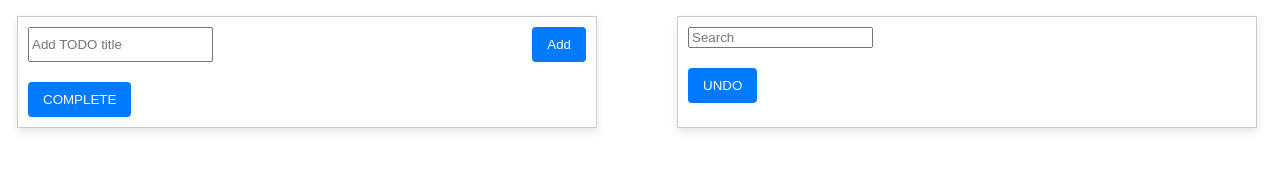
Test case: adding a new task
Step 1. Type "new task" into the field with placeholder "Add TODO title" → (120, 44), box left=28, top=27, right=213, bottom=62
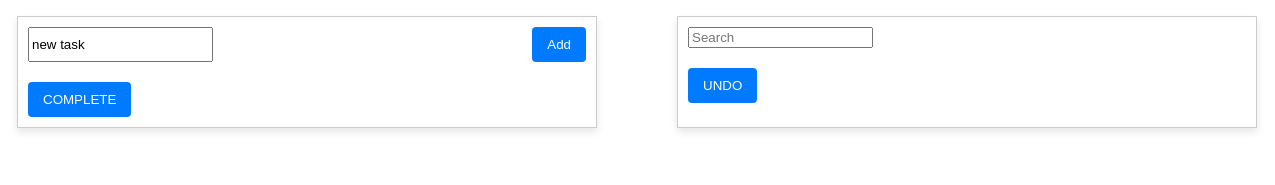
Step 2. Click the button "Add" → (559, 44), box left=532, top=27, right=586, bottom=62
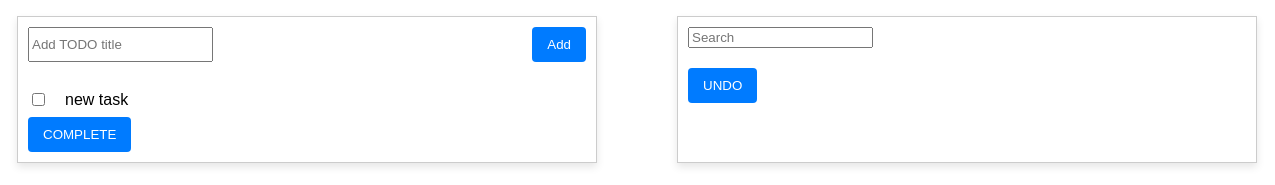
Result: the text "new task" is shown at left=65, top=90, right=128, bottom=108
